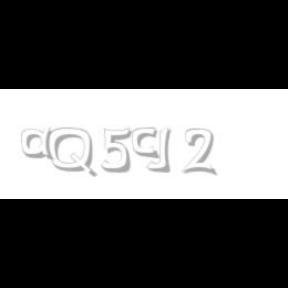2: (181, 128, 215, 176)
5: (101, 128, 132, 174)
J: (146, 128, 171, 172)
Q: (49, 128, 95, 178)
a: (22, 128, 58, 160)
c: (132, 128, 160, 160)
